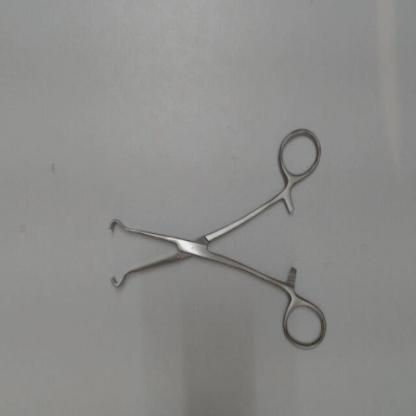Babcock Tissue Forceps: (100, 123, 333, 361)
